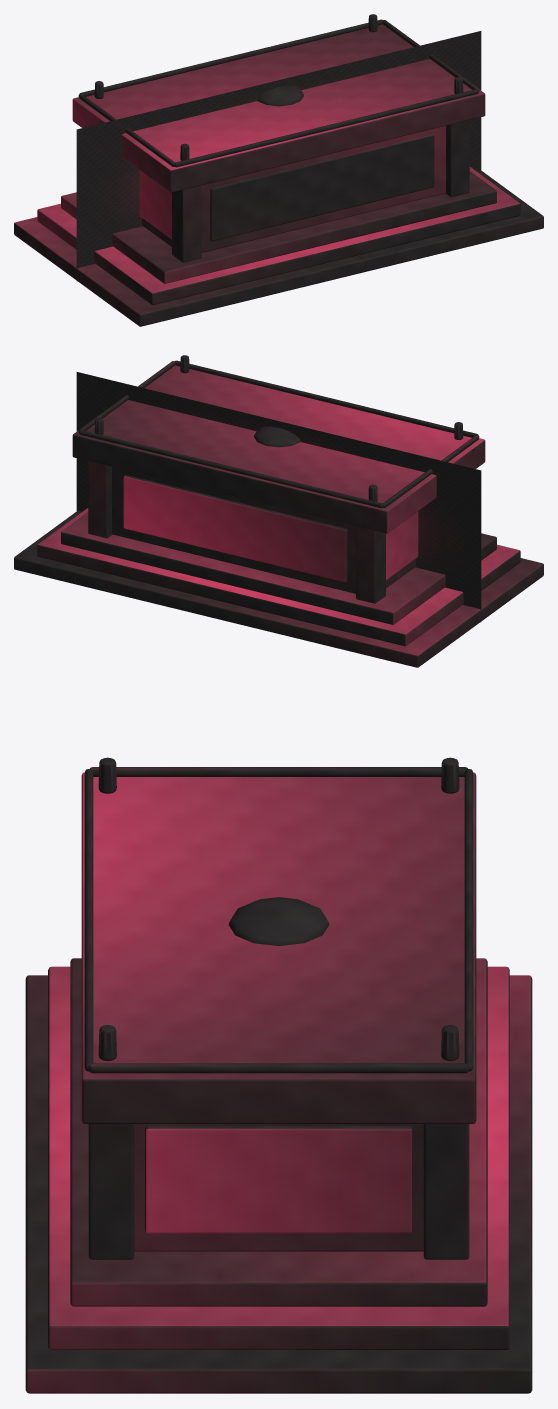
The model's file is StoneAltar_Ritual_MultiLOD.glb.
The picture shows the model from 3 angles, top to bottom: view 1: azimuth 30°, elevation 25°; view 2: azimuth 150°, elevation 25°; view 3: azimuth 270°, elevation 25°; orthographic projection. The views are drawn at different scales.
Visible parts, largest first — view 1: StoneAltar_Ritual_LOD0, StoneAltar_Ritual_Impostor; view 2: StoneAltar_Ritual_LOD0, StoneAltar_Ritual_Impostor; view 3: StoneAltar_Ritual_LOD0.
Boxes of the visible parts, x1,y1,x2,y2 form: StoneAltar_Ritual_LOD0: [14, 14, 543, 326]; StoneAltar_Ritual_Impostor: [76, 31, 481, 281]; StoneAltar_Ritual_LOD0: [14, 355, 543, 667]; StoneAltar_Ritual_Impostor: [76, 372, 481, 622]; StoneAltar_Ritual_LOD0: [25, 757, 532, 1393].
Size of what is drawn, in the model's own units: 3.26 by 1.17 by 1.77.
Materials: 1 (1 with a texture image).
